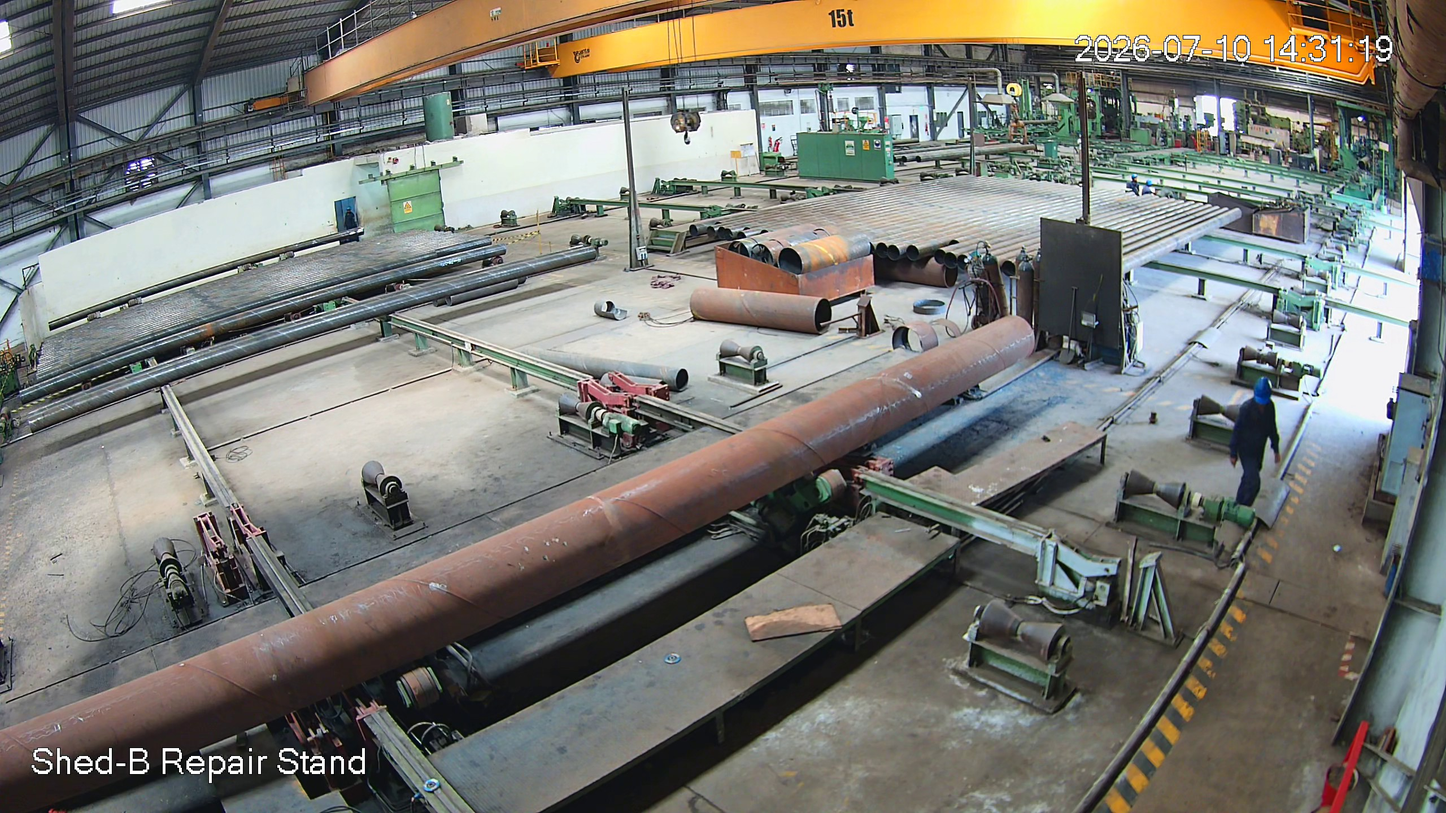Helmet: (1248, 374, 1279, 427)
Person: (1222, 377, 1288, 516)
